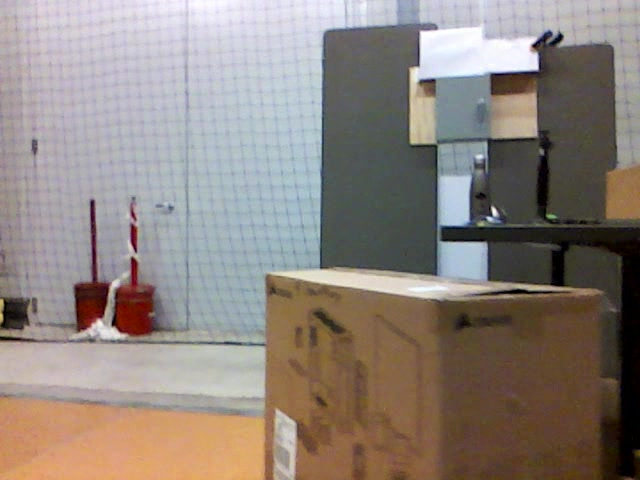box: (266, 267, 601, 480)
